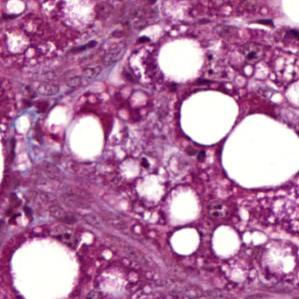steatosis: (224, 116, 297, 190), (176, 88, 232, 144), (165, 227, 202, 260), (210, 224, 240, 258)
